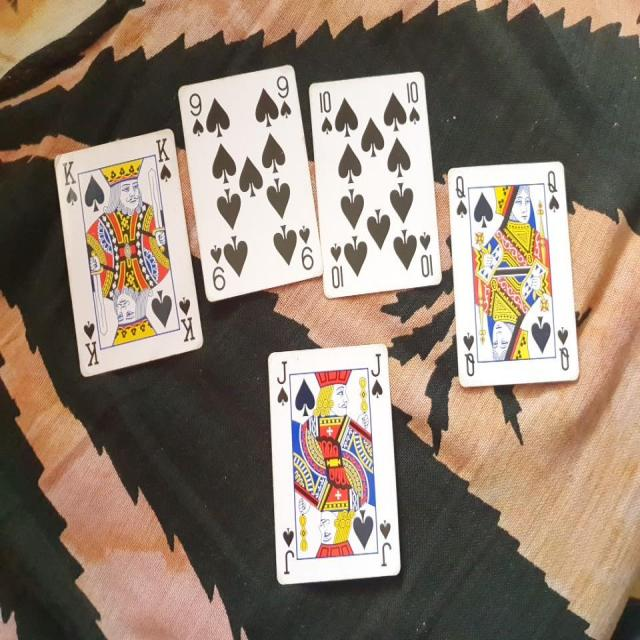10 Spades: (312, 65, 445, 299)
9 Spades: (174, 54, 326, 305)
J Spades: (264, 344, 409, 588)
K Spades: (43, 123, 208, 383)
Q Spades: (444, 152, 582, 388)
